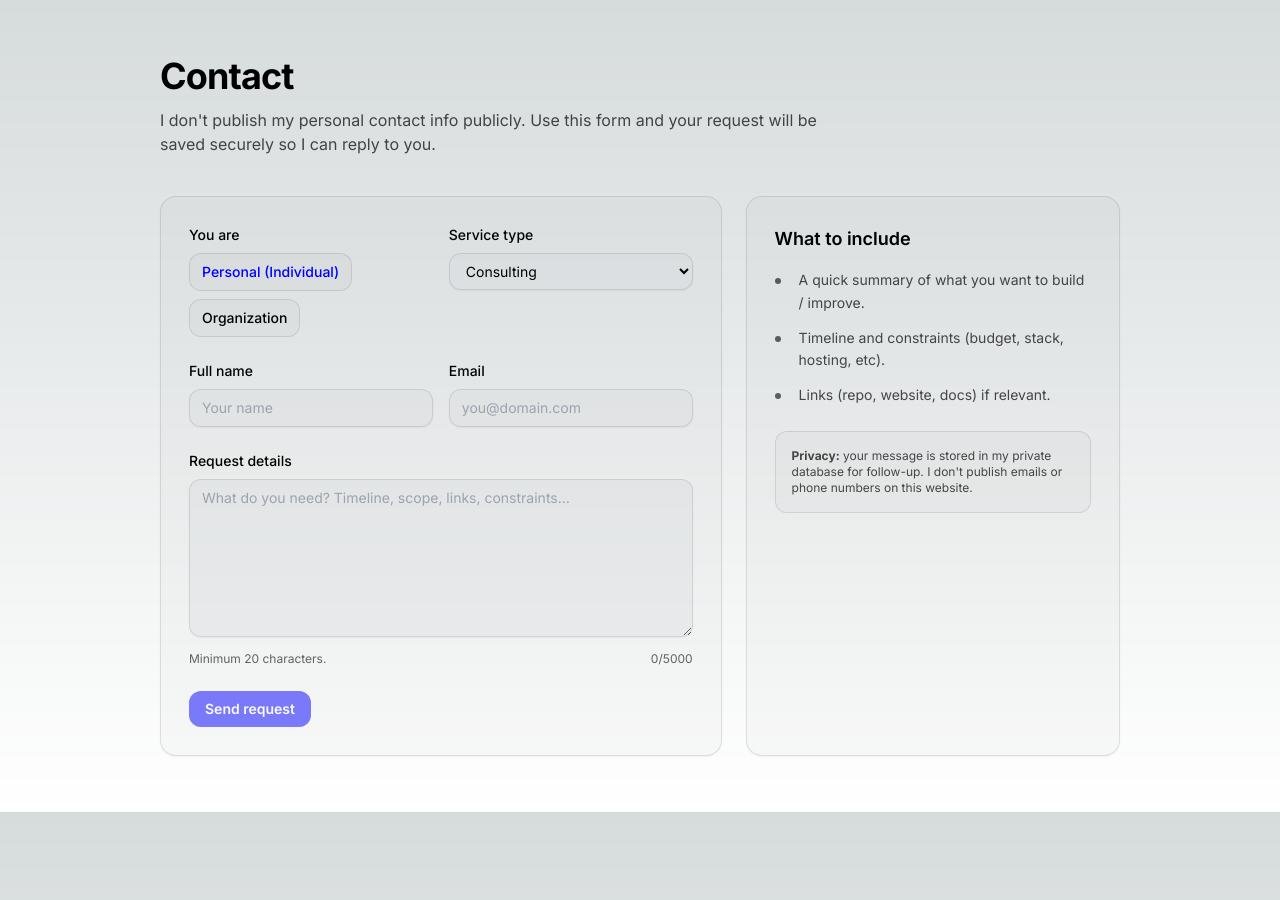
Test: ContactPage › shows organization field only when organization is selected
Expected: the field labelled "organization name" is not shown
Click the button "Organization". click: (245, 318)
box: [189, 299, 300, 337]
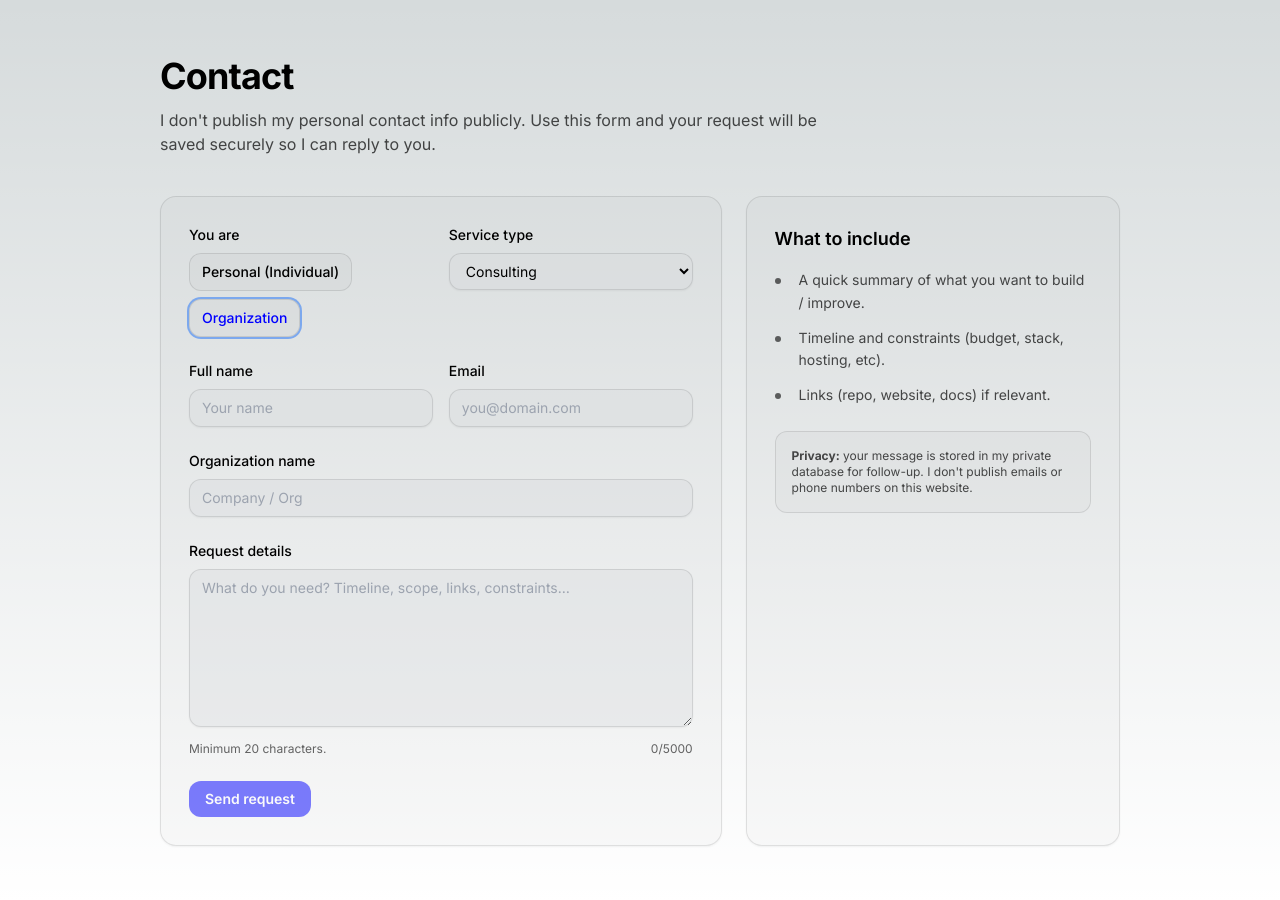
Expected: the field labelled "Organization name" is shown, [189, 479, 693, 517]
